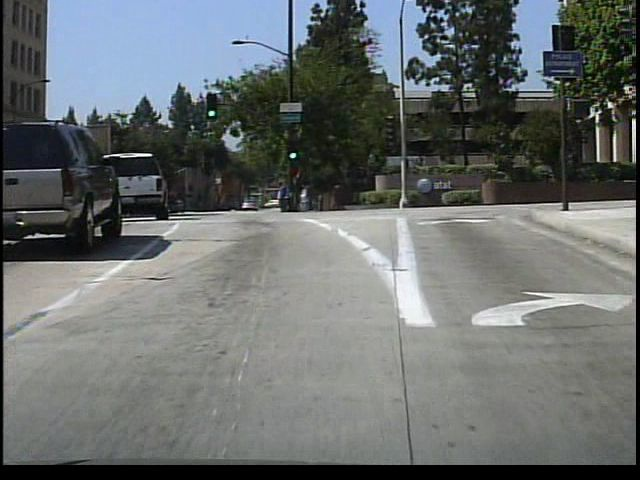person: (273, 174, 293, 215), (296, 180, 316, 216)
